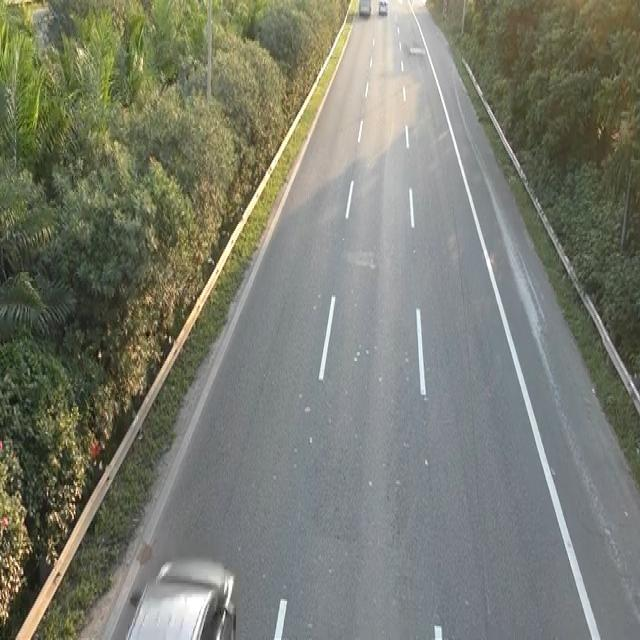bus: (377, 0, 389, 16)
car: (121, 551, 239, 637)
jeep: (357, 0, 371, 18)
